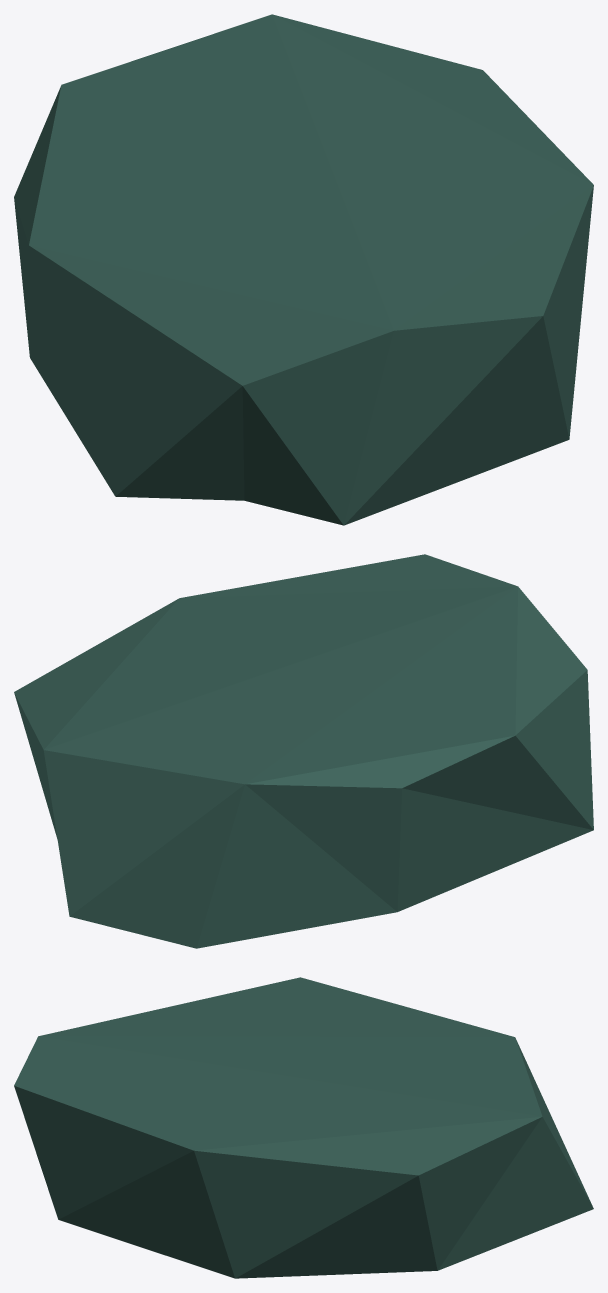
The model's file is Stone_19.fbx.
3 renders of one model, top to bottom at view 1: azimuth 30°, elevation 25°; view 2: azimuth 150°, elevation 25°; view 3: azimuth 270°, elevation 25°, orthographic. The views are drawn at different scales.
Parts seen in each view (by area): view 1: Stone 19; view 2: Stone 19; view 3: Stone 19.
Boxes of the visible parts, x1,y1,x2,y2 form: Stone 19: [14, 14, 593, 525]; Stone 19: [14, 554, 593, 948]; Stone 19: [14, 977, 593, 1278].
Bounding box in the file's own units: 429 × 144 × 558.
